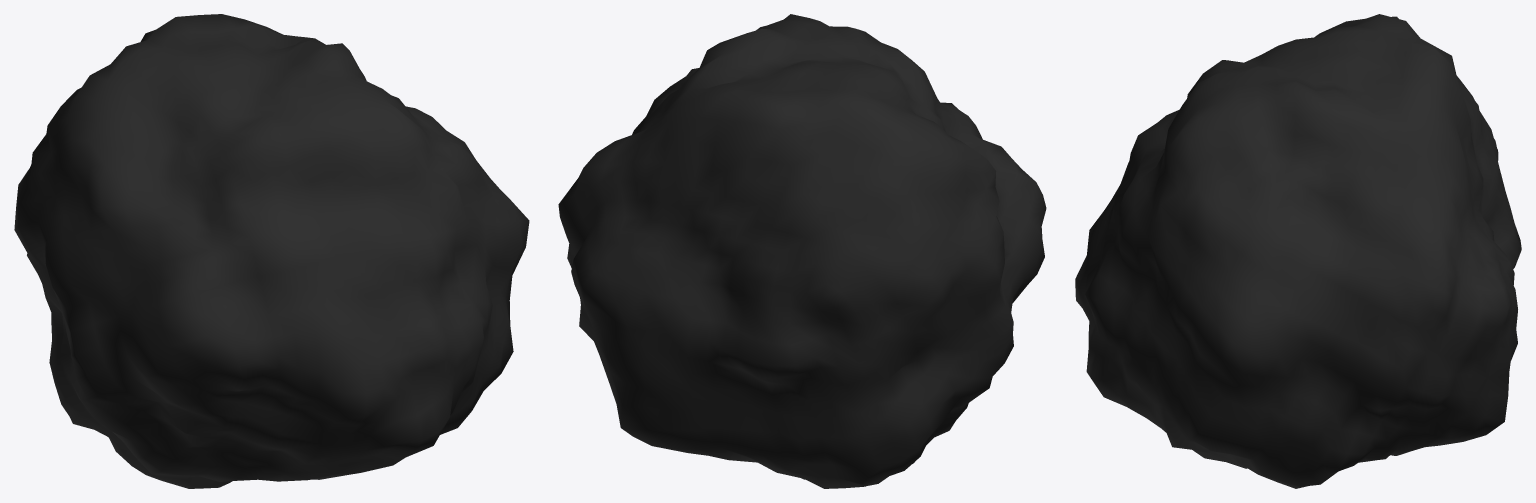
The model's file is SM_Prop_Asteroid3_01.fbx.
3 renders of one model, left to right at view 1: azimuth 30°, elevation 25°; view 2: azimuth 150°, elevation 25°; view 3: azimuth 270°, elevation 25°, orthographic. The views are drawn at different scales.
Visible parts, largest first — view 1: SM_Prop_Asteroid3_01; view 2: SM_Prop_Asteroid3_01; view 3: SM_Prop_Asteroid3_01.
Part boxes in pixels (x1,y1,x2,y2): SM_Prop_Asteroid3_01: [14, 14, 529, 488]; SM_Prop_Asteroid3_01: [558, 14, 1046, 488]; SM_Prop_Asteroid3_01: [1075, 14, 1521, 488].
Size of the model in its own units: 588 by 545 by 552.
